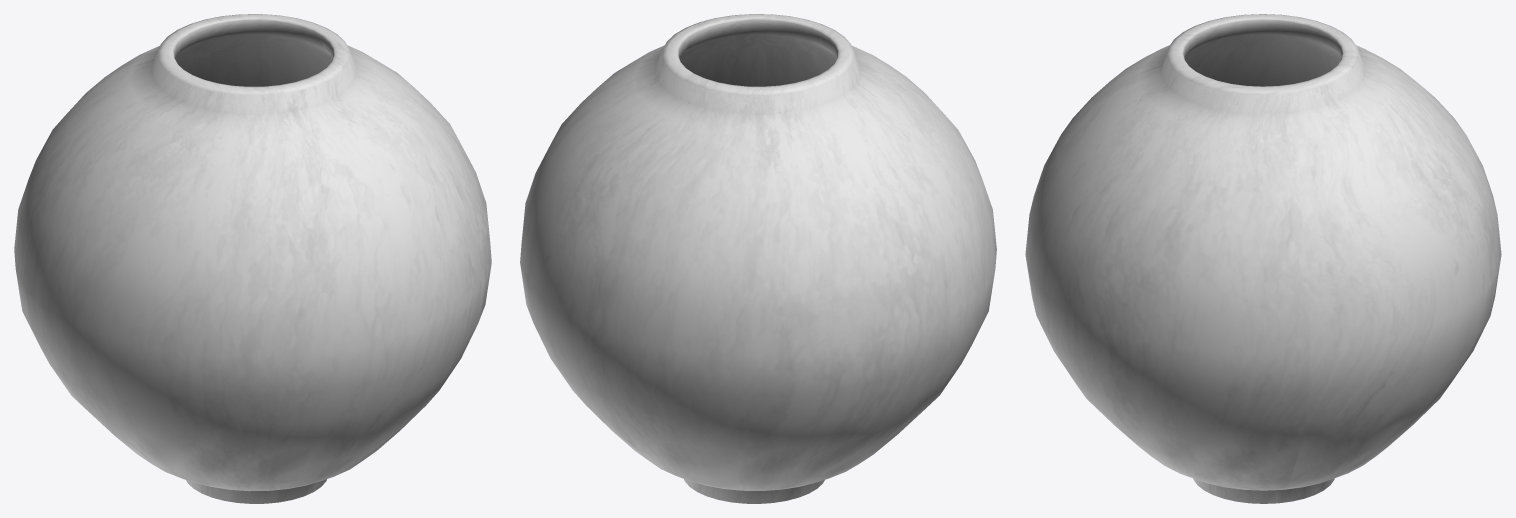
The model's file is moon_jar.glb.
3 views of the same model, side by side, from view 1: azimuth 30°, elevation 25°; view 2: azimuth 150°, elevation 25°; view 3: azimuth 270°, elevation 25° (orthographic).
Visible parts, largest first — view 1: Moonjar_6 (3); view 2: Moonjar_6 (3); view 3: Moonjar_6 (3).
Boxes of the visible parts, <box> form: Moonjar_6 (3): <box>14,14,491,503</box>; Moonjar_6 (3): <box>520,14,996,503</box>; Moonjar_6 (3): <box>1025,14,1501,503</box>.
Bounding box in the file's own units: 0.606 × 0.5895 × 0.606.
Materials: 1 (1 with a texture image).
